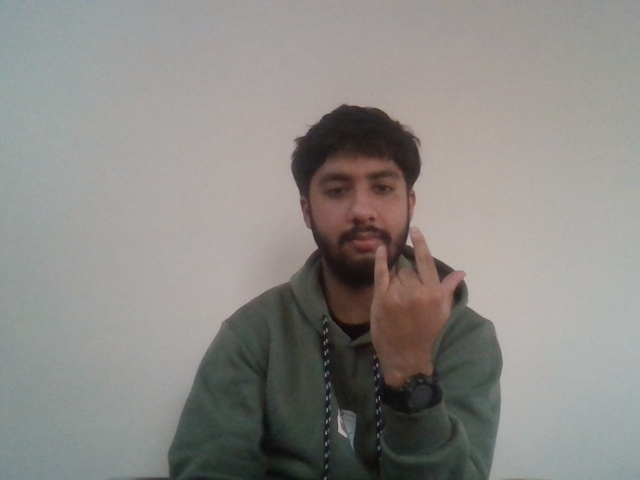IloveYou: (367, 231, 476, 358)
